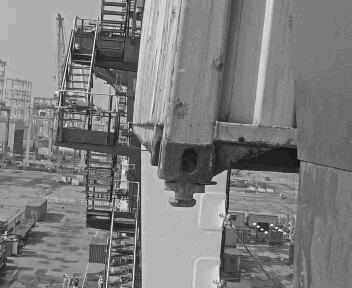twist_lock_1: (155, 168, 216, 221)
